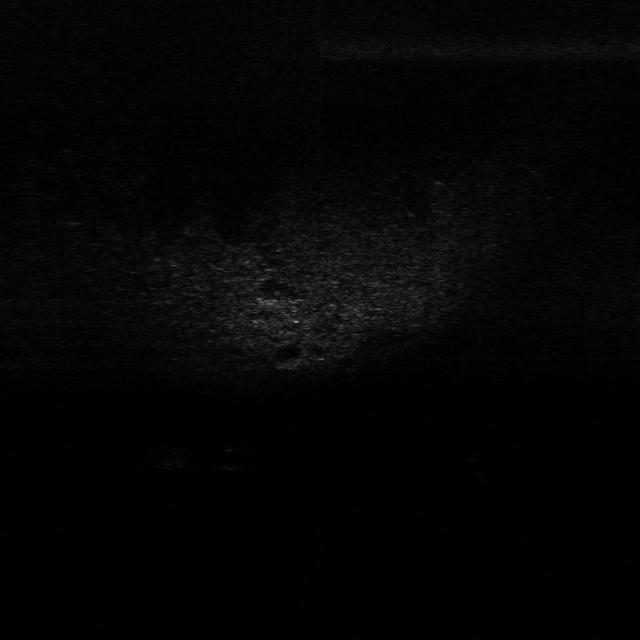ball: (213, 445, 244, 470)
circle cage: (143, 440, 193, 470)
cylinder: (467, 450, 493, 489)
